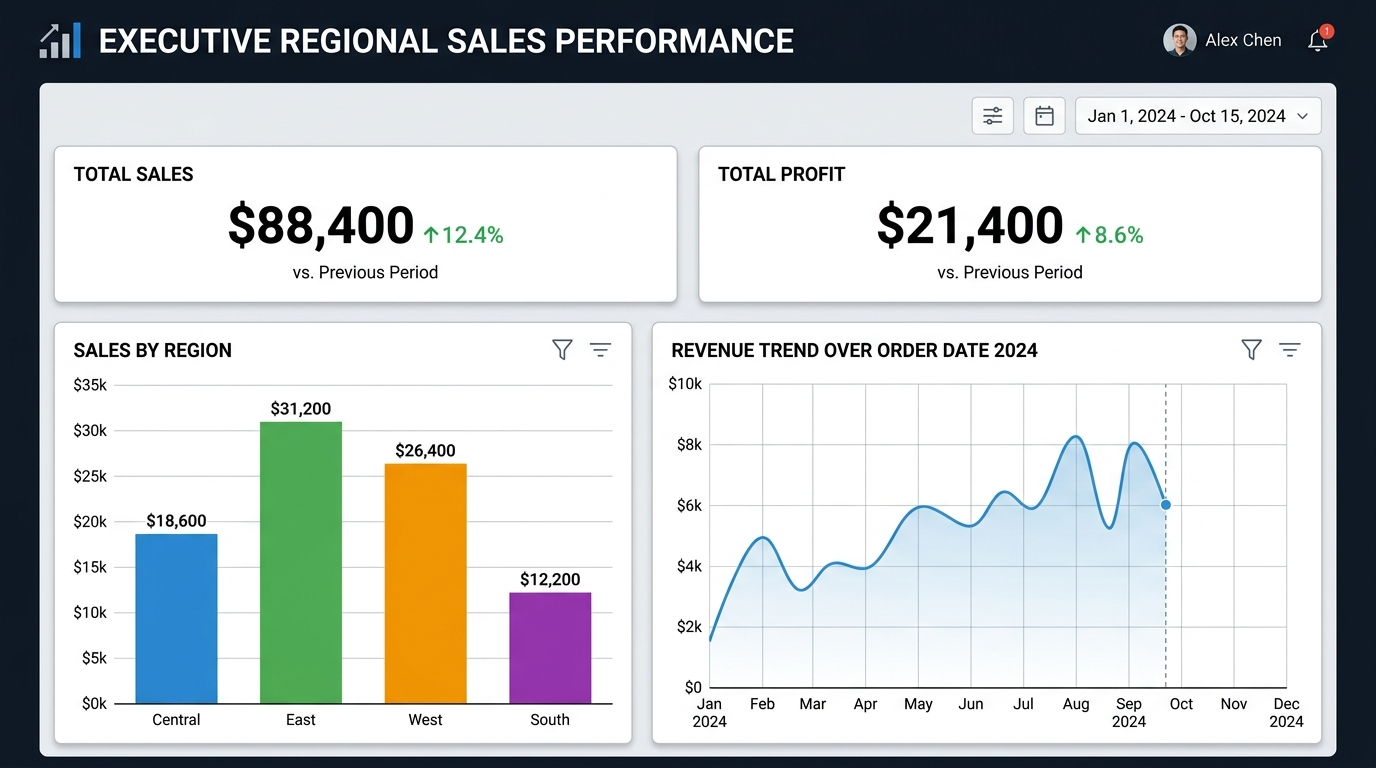

The page's visual inventory and layout, read from the dashboard file:
{"tool":"tableau","page":{"name":"Executive Sales Performance","canvas":[1400,900],"ordinal":0},"visuals":[{"type":"worksheet","title":"Total Sales","mark":"Automatic","box":[70,72,392,198]},{"type":"worksheet","title":"Total Profit","mark":"Automatic","box":[504,72,392,198]},{"type":"worksheet","title":"Sales by Region","mark":"Bar","rows":["Sales"],"cols":["Region"],"box":[70,315,616,522]},{"type":"worksheet","title":"Sales Trend over Order Date","mark":"Line","rows":["Sales"],"cols":["Order Date"],"box":[728,315,602,522]}]}

Visuals, with their boxes on the page's 1400x900 design canvas (x1, y1, x2, y2). These are canvas units, not pixel positions in the 1376x768 screenshot, which may show the page scaled, cropped or inside an application window:
"Total Sales" worksheet: rect(70, 72, 462, 270)
"Total Profit" worksheet: rect(504, 72, 896, 270)
"Sales by Region" worksheet (Bar marks): rect(70, 315, 686, 837)
"Sales Trend over Order Date" worksheet (Line marks): rect(728, 315, 1330, 837)
